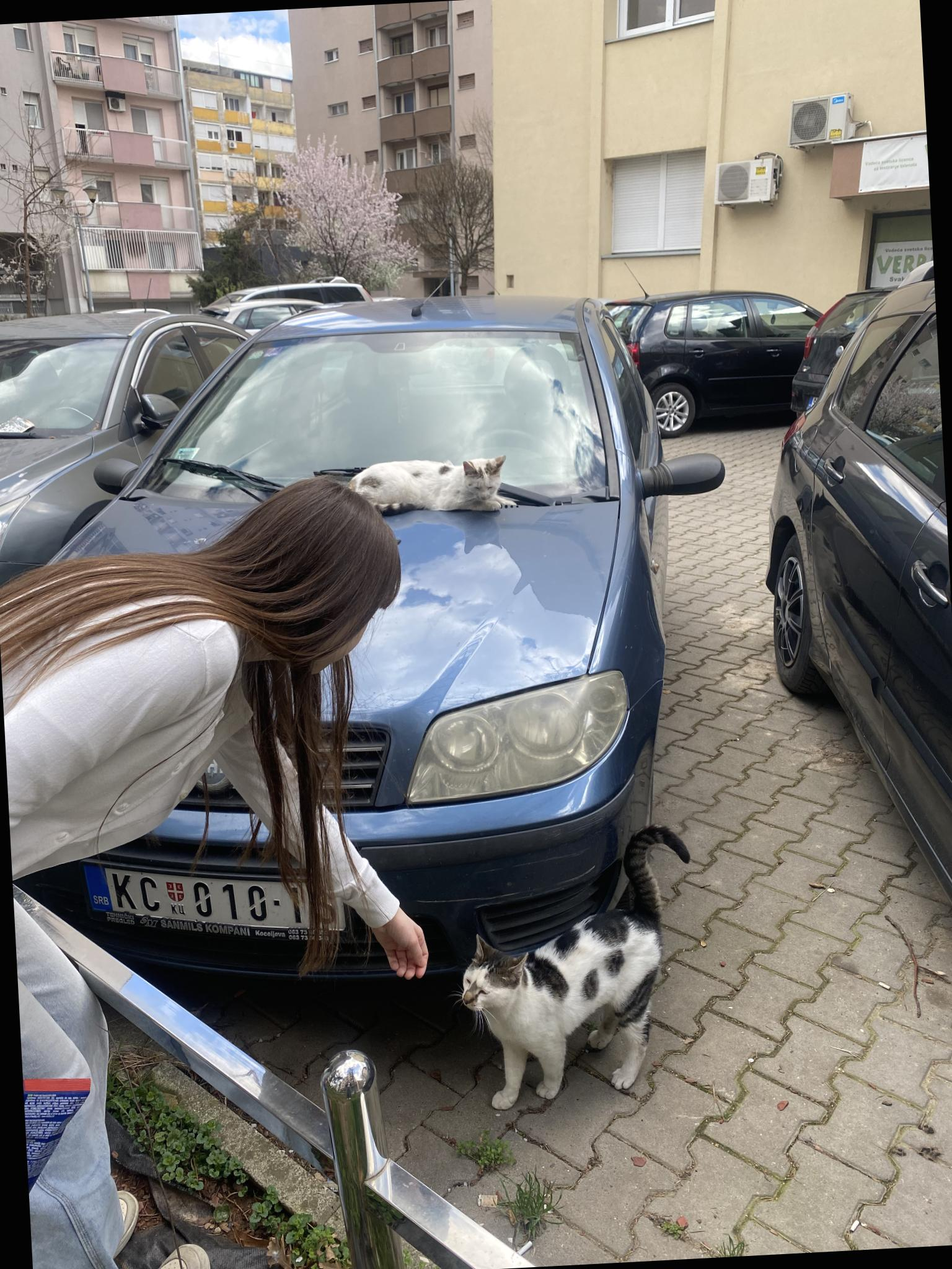macka: (450, 822, 707, 1113), (345, 454, 515, 519)
